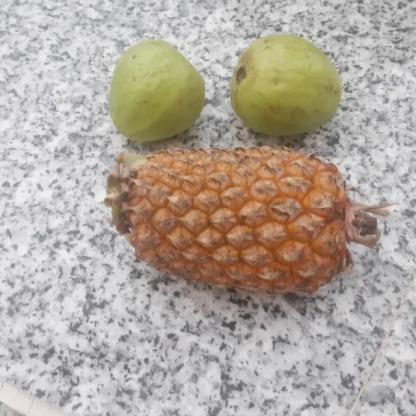guava: (225, 36, 342, 134), (102, 41, 204, 142)
pineapple: (111, 145, 374, 295)
